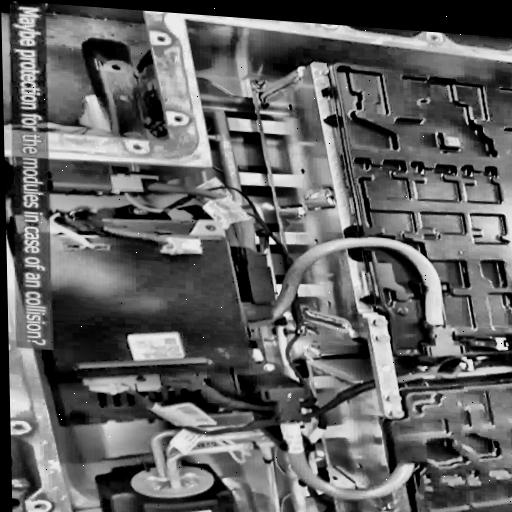high_volt_cable: (236, 226, 464, 358), (261, 380, 428, 509)
nut: (385, 407, 406, 420), (373, 332, 391, 345), (385, 394, 401, 404), (372, 319, 389, 328), (260, 364, 276, 373)
